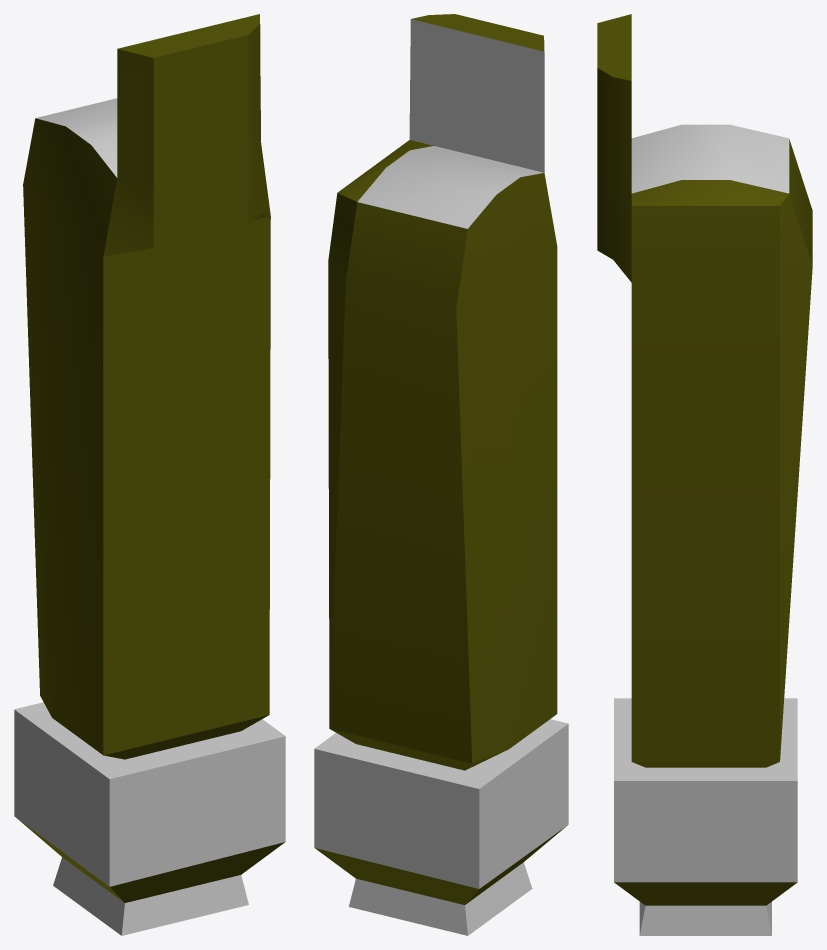
The model's file is leftLeg.obj.
3 views of the same model, side by side, from view 1: azimuth 30°, elevation 25°; view 2: azimuth 150°, elevation 25°; view 3: azimuth 270°, elevation 25° (orthographic). The views are drawn at different scales.
Visible parts, largest first — view 1: 4_Lower_Leg.L_Cube.042; view 2: 4_Lower_Leg.L_Cube.042; view 3: 4_Lower_Leg.L_Cube.042.
Boxes of the visible parts, <box> form: 4_Lower_Leg.L_Cube.042: <box>14,14,285,935</box>; 4_Lower_Leg.L_Cube.042: <box>314,14,568,935</box>; 4_Lower_Leg.L_Cube.042: <box>597,14,812,935</box>.
Bounding box in the file's own units: 0.8677 × 4.2 × 0.9557.
